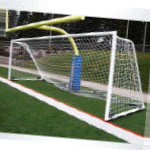goals: (8, 30, 147, 121)
